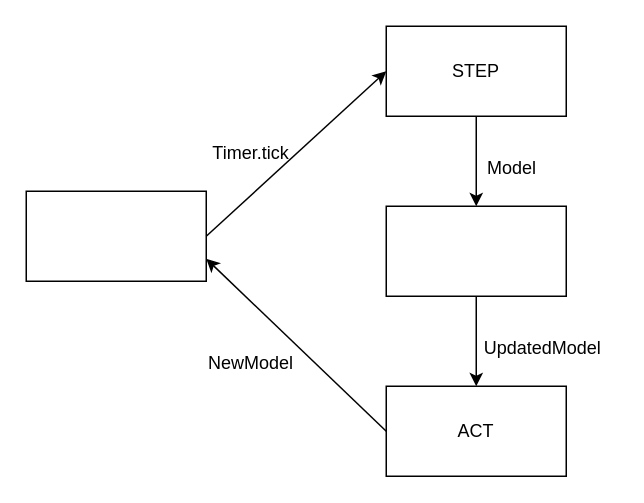
This 644x503 diagram has some shape labels left out. Here are the shapes that lost their labels. From the top down, the centre of each, then its label:
(115,235): VIEW
(475,250): DECIDE
